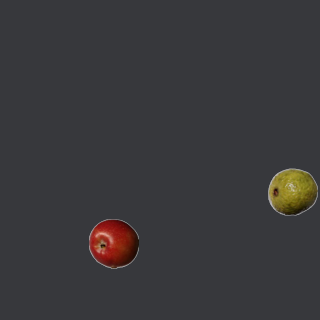Apple Braeburn: (88, 218, 138, 268)
Guava: (267, 166, 317, 216)
